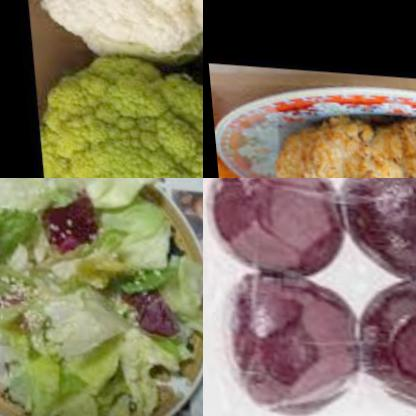beet: (207, 261, 366, 416), (203, 178, 344, 281), (341, 264, 416, 412), (334, 178, 416, 285)
cayliflower: (26, 51, 203, 178), (12, 0, 203, 68), (239, 115, 416, 178)
salad: (0, 178, 199, 416)
